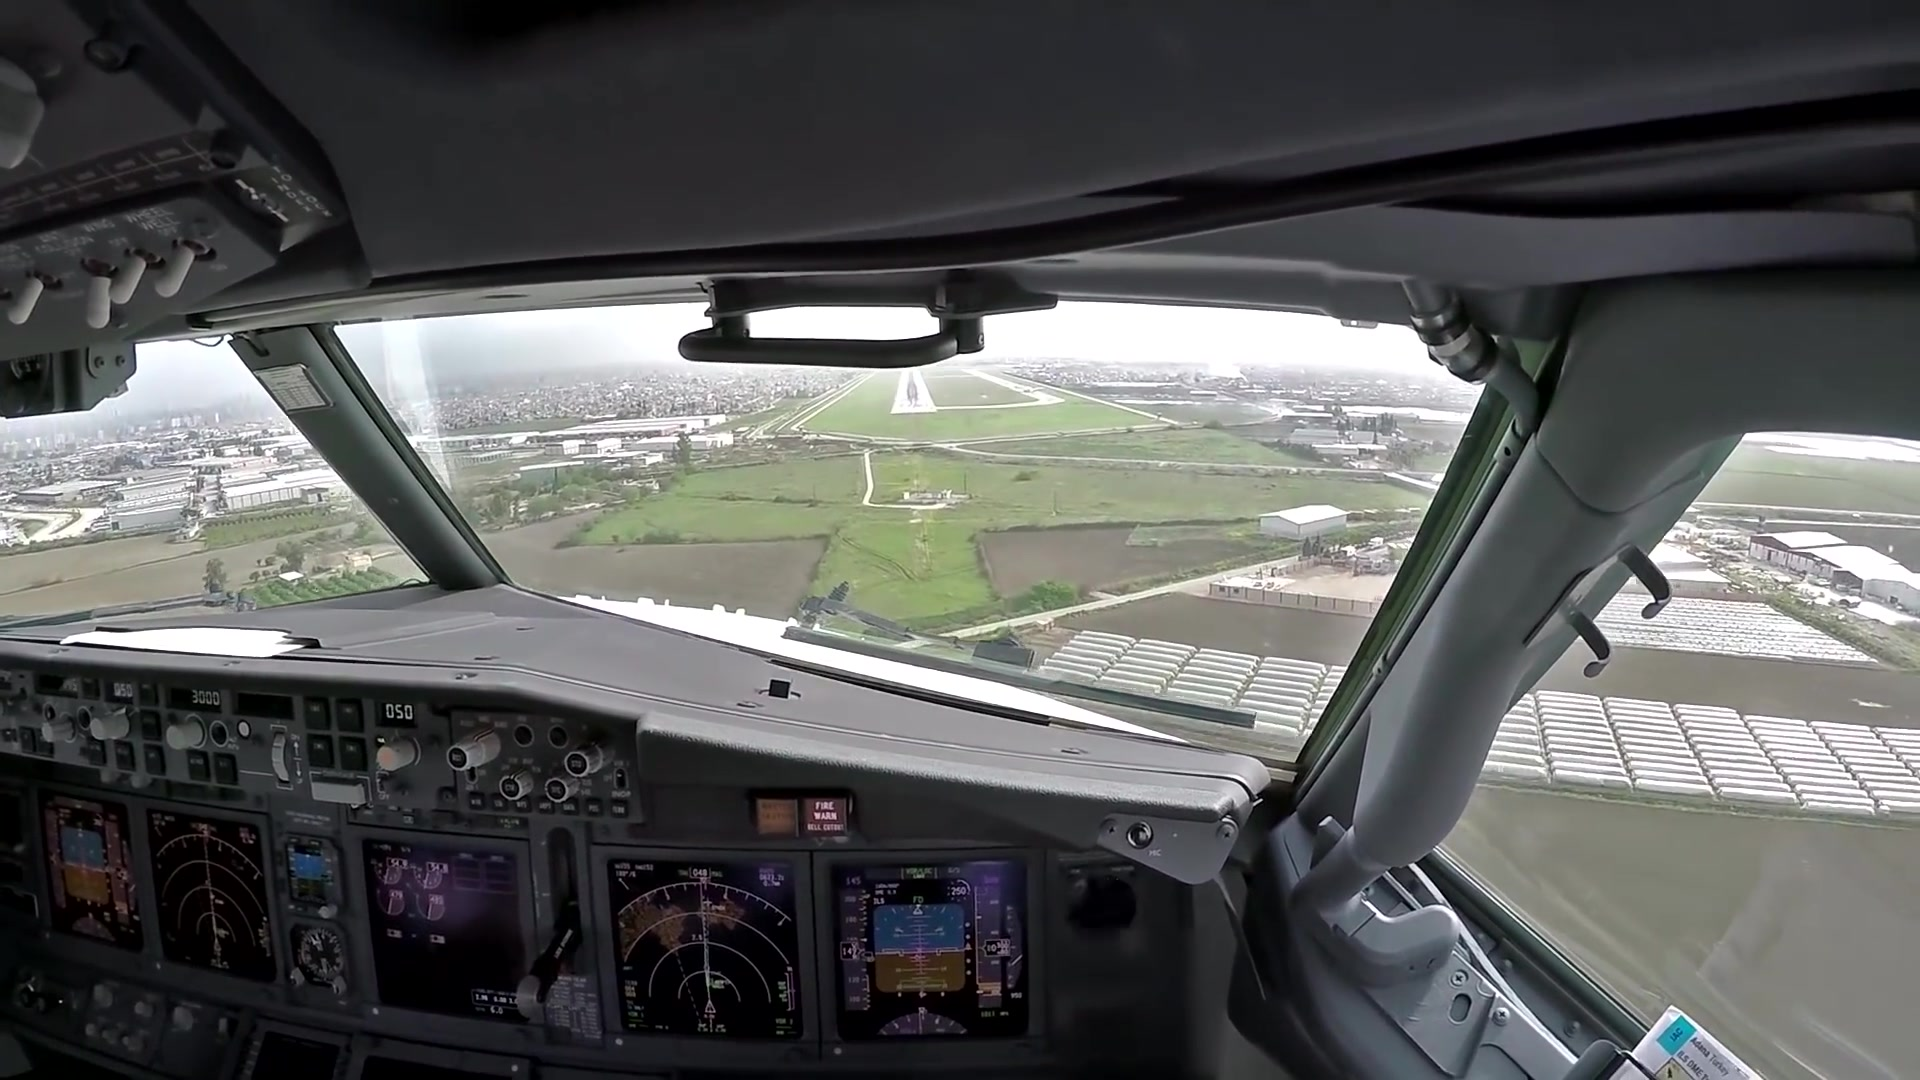runway: (890, 363, 938, 414)
